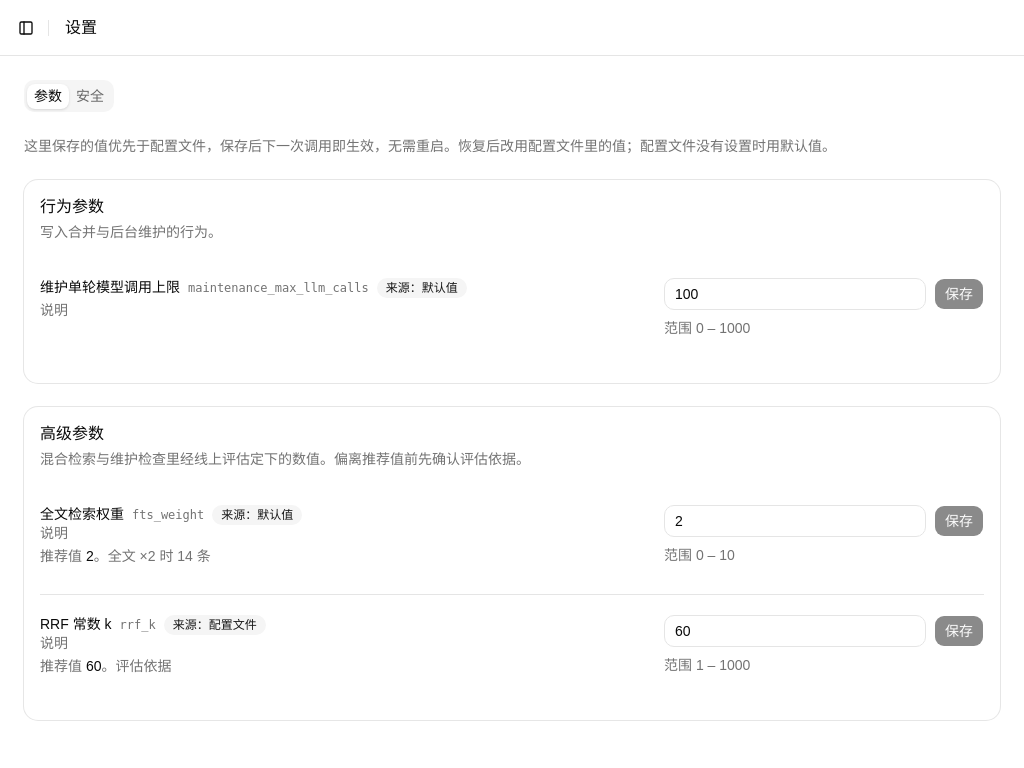
Test: an out-of-range value is rejected before saving
The width and height of the screenshot is (1024, 768).
Replace the text in the field labelled "全文检索权重" with "11". click: {"x": 795, "y": 521}
box: [664,505,926,537]
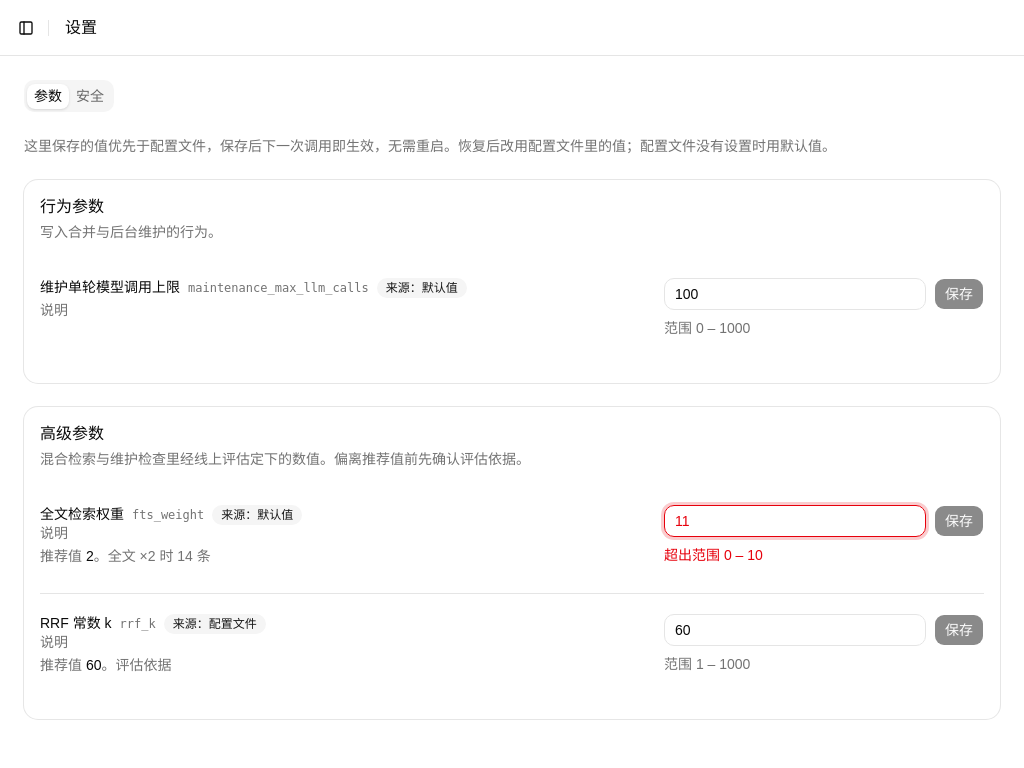
Expected: the button "保存" in the row of "fts_weight" is disabled, [934,505,984,537]
Expected: the message reads "超出范围 0 – 10", [664,547,763,563]
Replace the text in the field labelled "全文检索权重" with "1.5". click: {"x": 795, "y": 521}
box: [664,505,926,537]
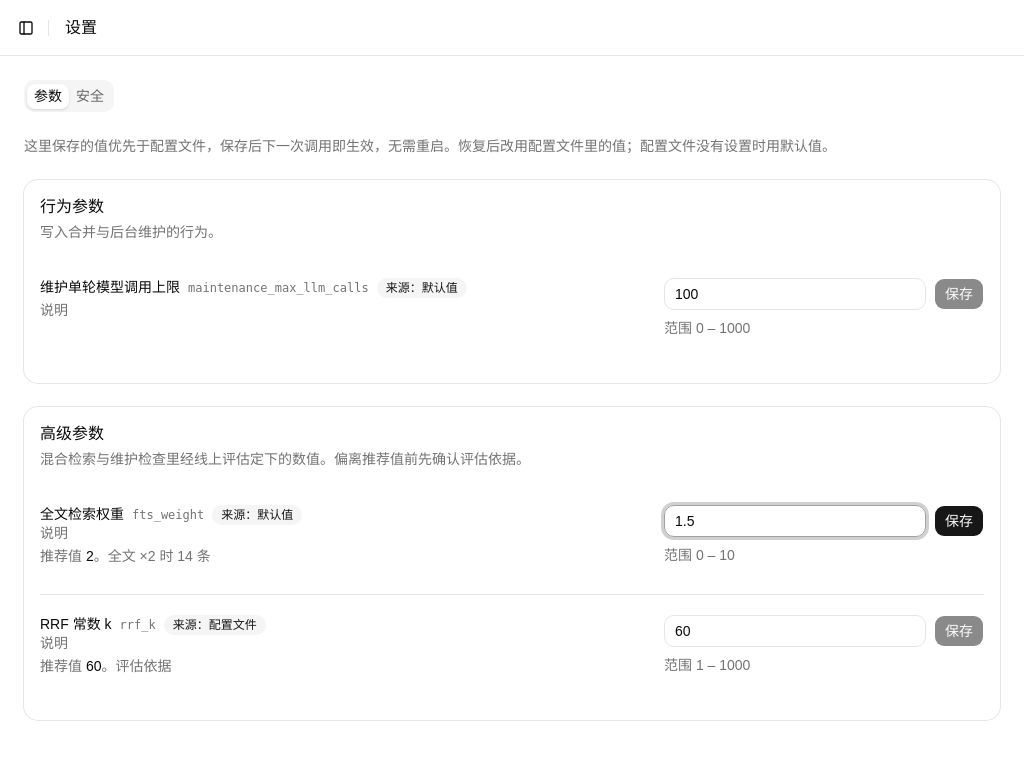
Expected: the message "请填写数值" is gone
Replace the text in the field labelled "维护单轮模型调用上限" with "2.5". click: {"x": 795, "y": 294}
box: [664,278,926,310]
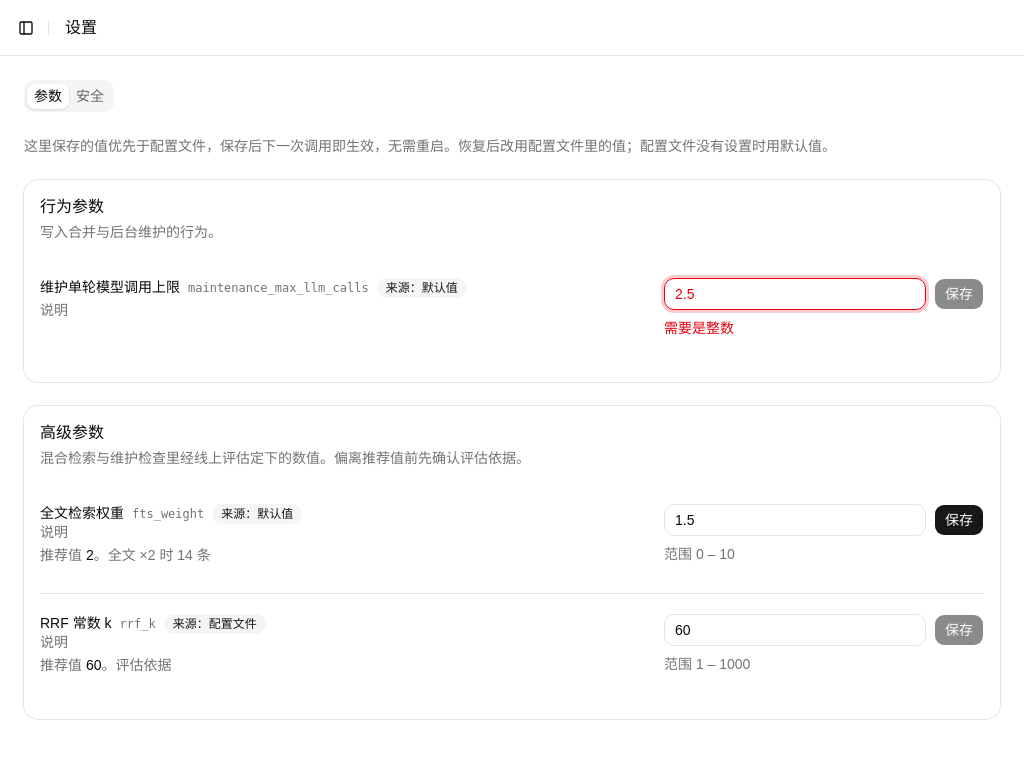
Expected: the message reads "需要是整数", [664,320,734,336]
